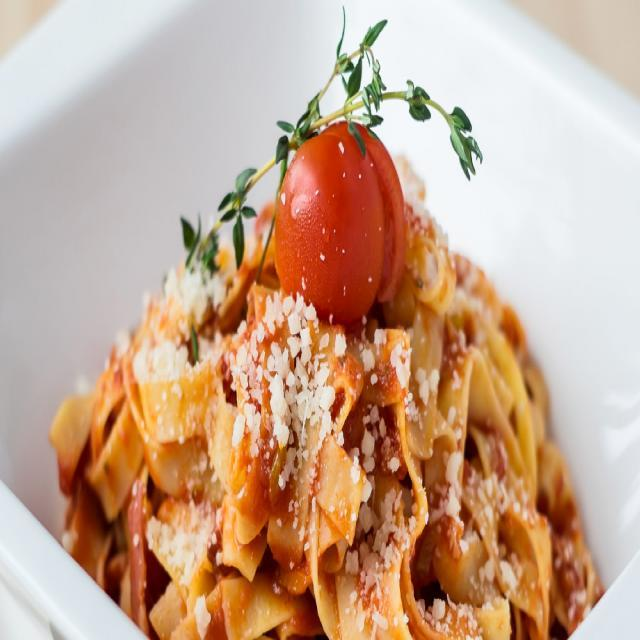Pasta al ragu: (88, 64, 619, 640)
